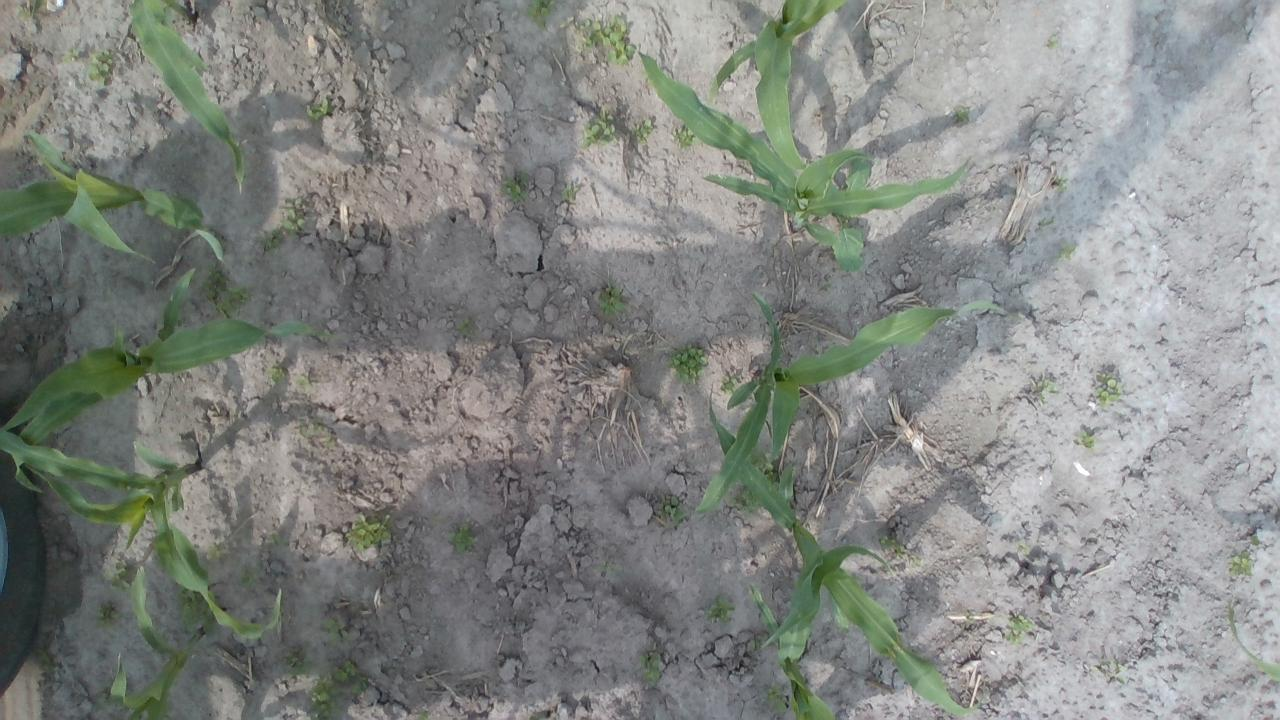Maize: (705, 383, 988, 717), (634, 42, 974, 268), (0, 266, 326, 490), (698, 288, 1008, 514), (0, 426, 286, 636), (0, 127, 224, 265), (128, 0, 248, 193), (94, 565, 204, 720), (703, 0, 852, 90), (749, 585, 842, 720), (1226, 604, 1280, 684)
Weeds: (198, 264, 258, 320), (575, 14, 637, 64), (828, 212, 868, 273), (177, 586, 220, 636), (306, 674, 346, 720), (346, 514, 392, 552), (669, 343, 710, 385), (582, 110, 615, 149), (1092, 369, 1122, 406), (281, 198, 306, 242), (751, 448, 781, 484), (1001, 612, 1036, 642), (86, 48, 114, 85), (526, 0, 556, 32), (656, 494, 686, 525), (500, 171, 529, 203), (728, 485, 760, 514), (105, 559, 132, 593), (706, 595, 737, 624), (762, 680, 789, 712), (596, 285, 624, 315), (447, 526, 478, 553), (640, 654, 664, 685), (671, 123, 697, 149), (1228, 552, 1255, 577), (306, 97, 334, 121), (878, 534, 906, 556), (14, 0, 46, 19), (258, 227, 282, 252), (264, 360, 288, 385), (286, 651, 310, 676), (333, 659, 359, 682), (95, 601, 114, 630), (320, 617, 338, 645), (38, 652, 61, 673), (1035, 378, 1057, 399), (455, 316, 478, 336), (634, 120, 654, 142), (558, 182, 582, 200), (1057, 242, 1078, 262), (92, 693, 112, 713), (1076, 431, 1096, 450), (719, 374, 738, 392), (62, 46, 82, 63), (352, 675, 369, 695), (1054, 174, 1069, 192), (238, 573, 257, 586), (1102, 660, 1124, 671), (416, 704, 430, 720), (269, 530, 283, 546), (751, 635, 765, 650), (954, 108, 970, 121), (597, 561, 613, 574), (1047, 36, 1057, 48), (1251, 534, 1260, 546)
